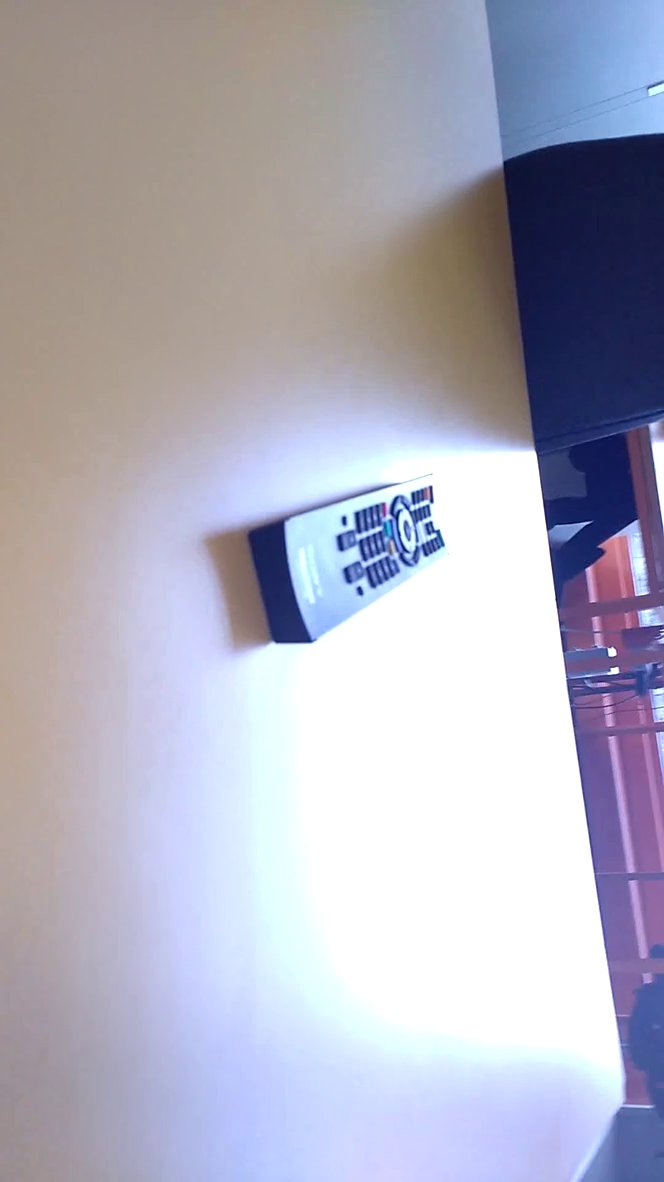remote: (225, 450, 477, 666)
